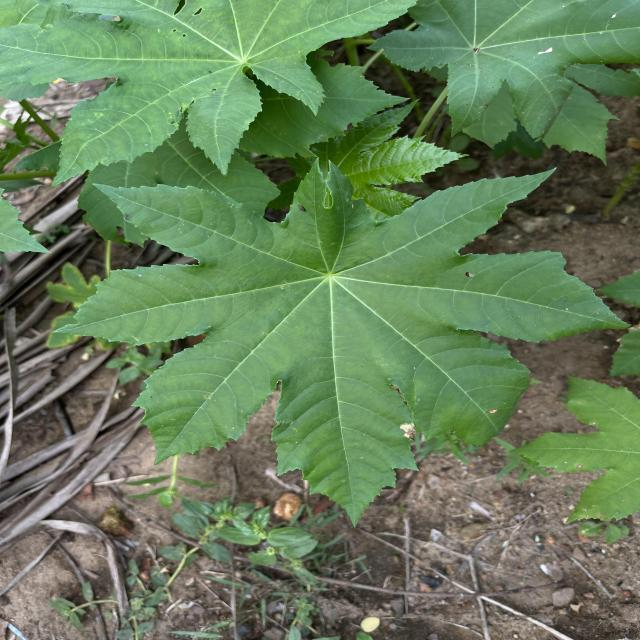Ricinus communis linn: (48, 151, 638, 533)
